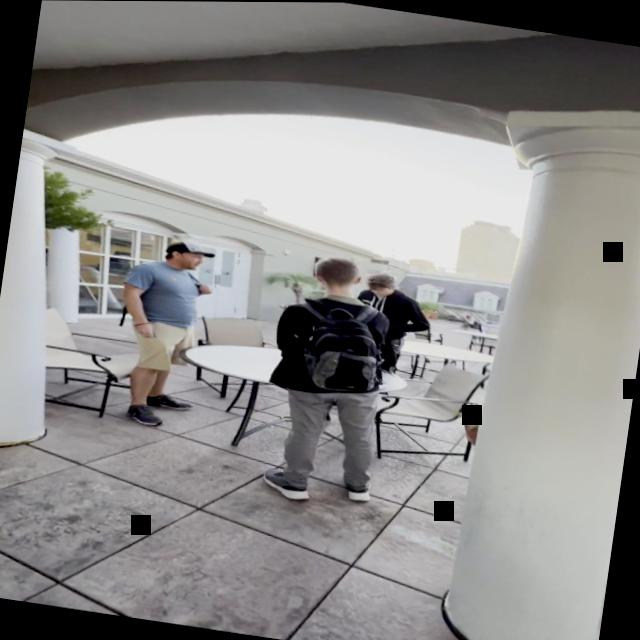NO-Mask: (177, 250, 204, 271), (368, 282, 389, 296)
